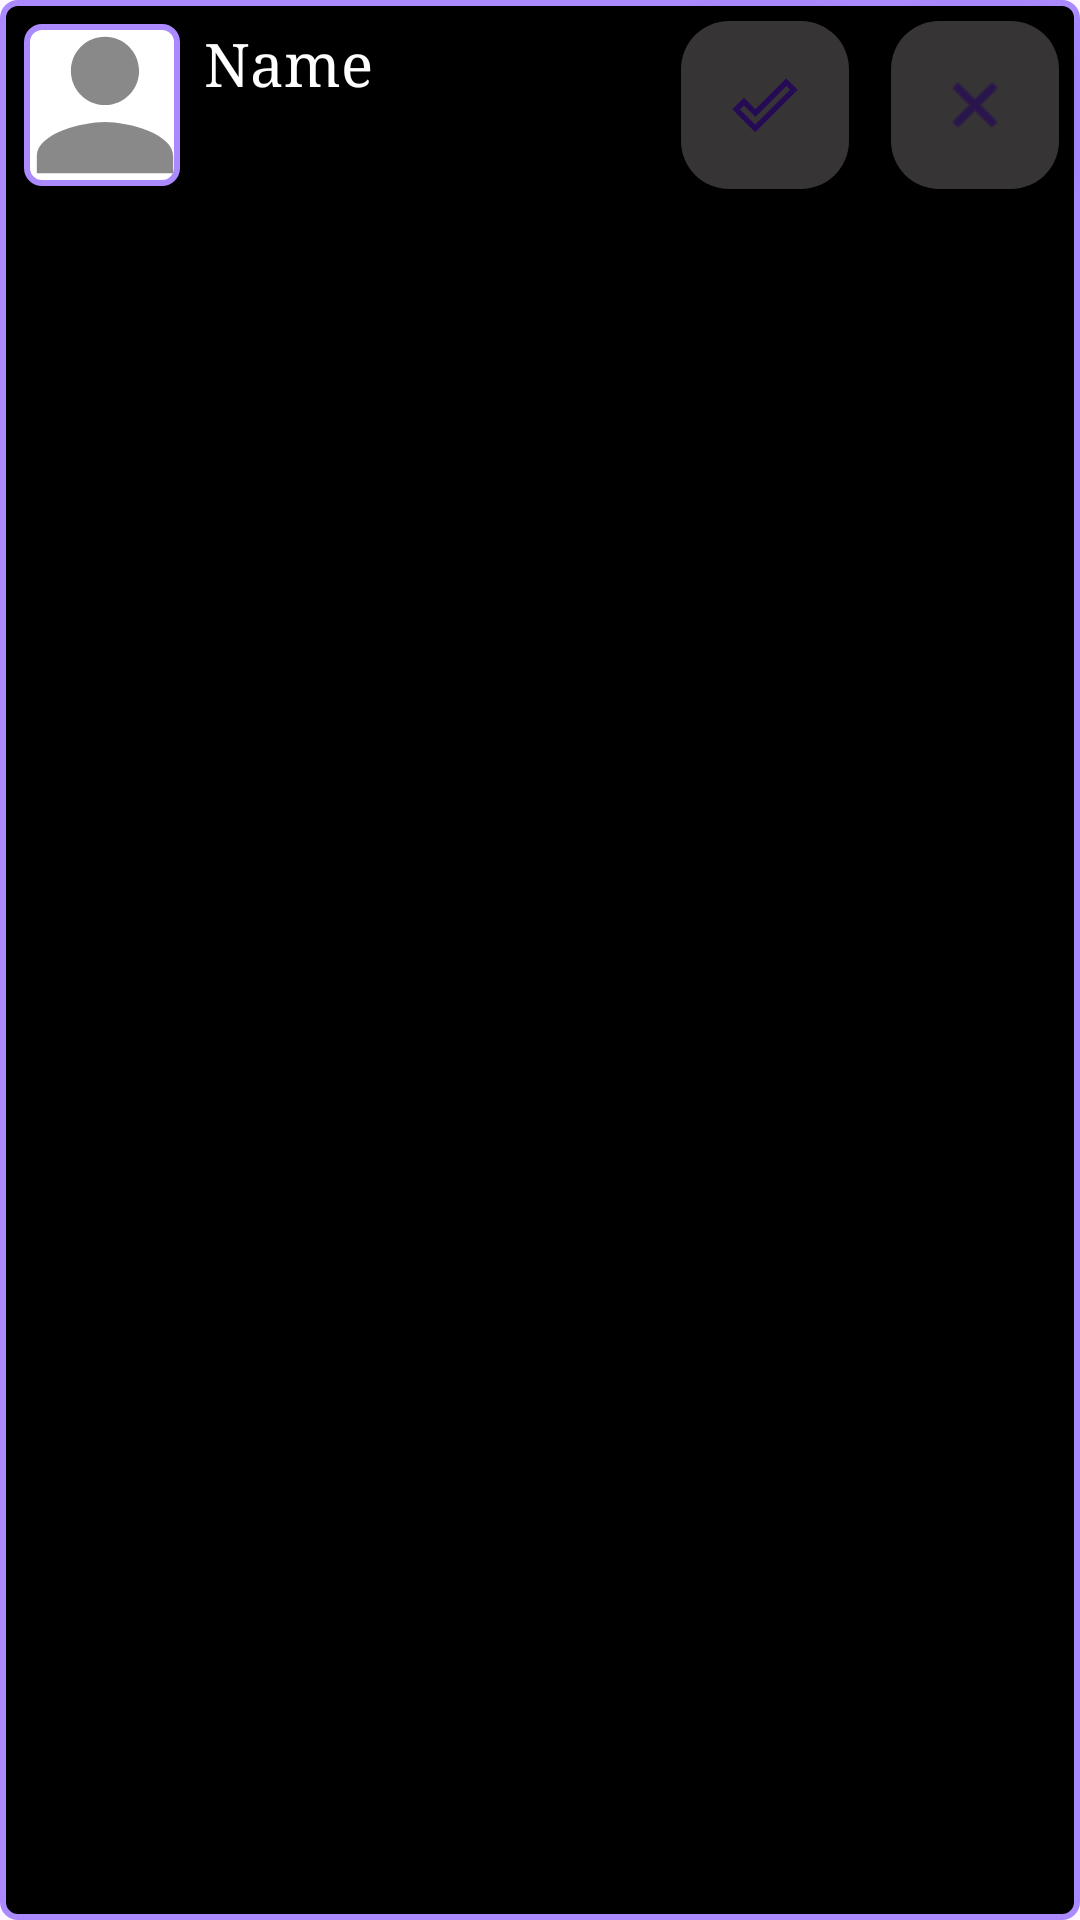

Point at icon controls on the screen. Image size 1080 × 1920, points as (x,y).
close clear cancel: (975,105)
done sign: (765,105)
person sign: (102,105)
